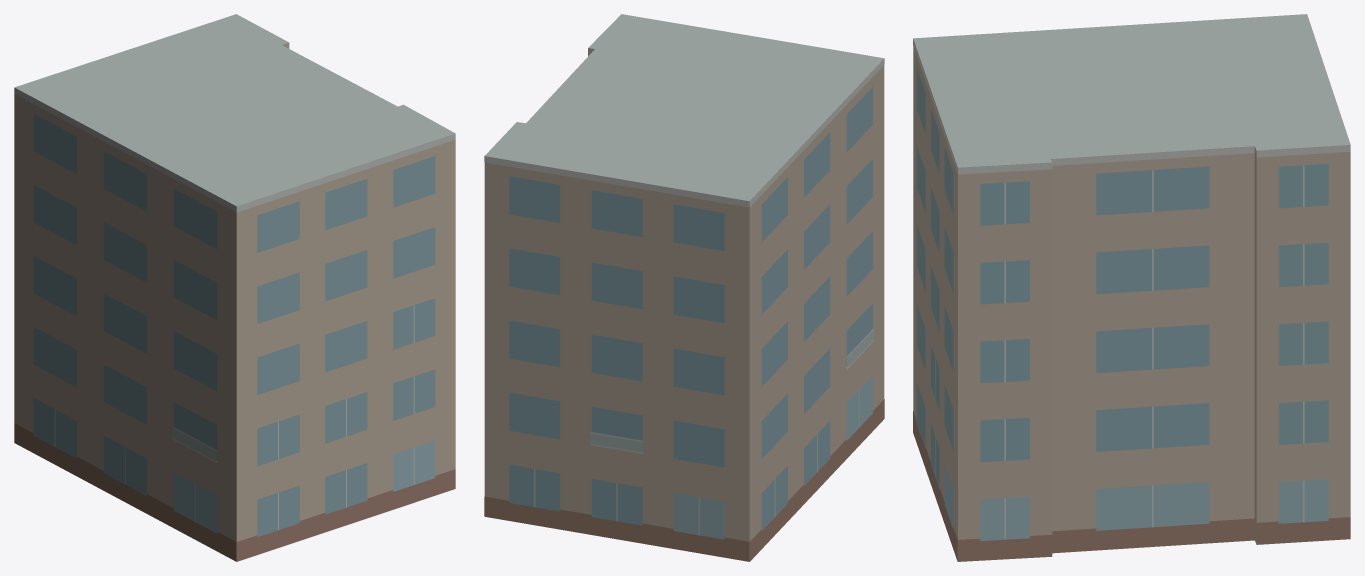
File: survey-upis-32905621.glb
3 views of the same model, side by side, from view 1: azimuth 30°, elevation 25°; view 2: azimuth 150°, elevation 25°; view 3: azimuth 270°, elevation 25° (orthographic). The views are drawn at different scales.
Visible parts, largest first — view 1: survey-upis-32905621.tmp; view 2: survey-upis-32905621.tmp; view 3: survey-upis-32905621.tmp.
Boxes of the visible parts, x1,y1,x2,y2 form: survey-upis-32905621.tmp: [14, 14, 455, 561]; survey-upis-32905621.tmp: [484, 14, 884, 561]; survey-upis-32905621.tmp: [913, 14, 1350, 561].
Bounding box in the file's own units: 11.71 × 14 × 14.1.
